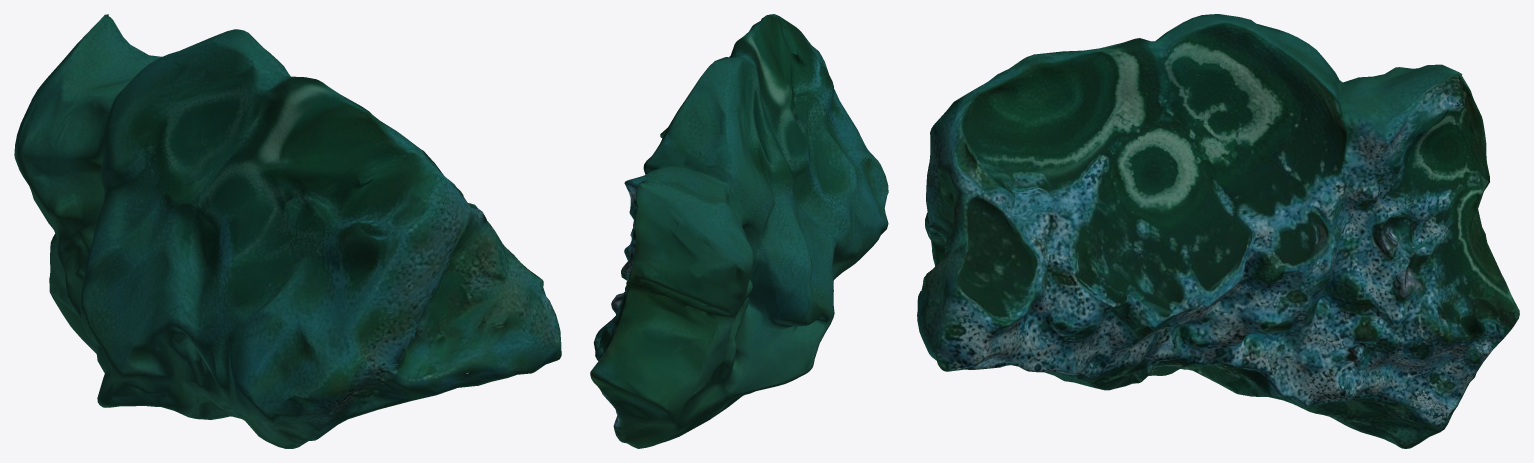
File: wellness.glb
3 renders of one model, left to right at view 1: azimuth 30°, elevation 25°; view 2: azimuth 150°, elevation 25°; view 3: azimuth 270°, elevation 25°, orthographic. The views are drawn at different scales.
Parts seen in each view (by area): view 1: tripo_node_df785ed0-59a6-4d43-8a78-df3e7bdd13ee; view 2: tripo_node_df785ed0-59a6-4d43-8a78-df3e7bdd13ee; view 3: tripo_node_df785ed0-59a6-4d43-8a78-df3e7bdd13ee.
Part boxes in pixels (box(x1,y1,x2,y2)): tripo_node_df785ed0-59a6-4d43-8a78-df3e7bdd13ee: box(14, 14, 561, 448); tripo_node_df785ed0-59a6-4d43-8a78-df3e7bdd13ee: box(590, 14, 888, 448); tripo_node_df785ed0-59a6-4d43-8a78-df3e7bdd13ee: box(917, 14, 1519, 448).
Bounding box in the file's own units: 0.6086 × 0.7632 × 0.9809.
1 material, 1 textured.
